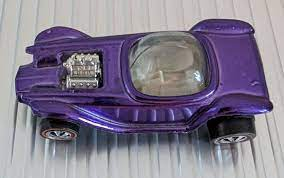Car: (13, 16, 275, 154)
